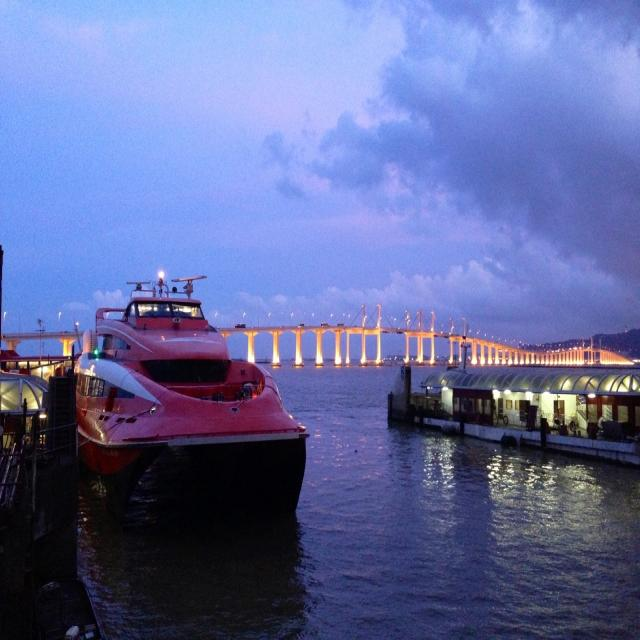houseboat: (62, 277, 308, 523)
